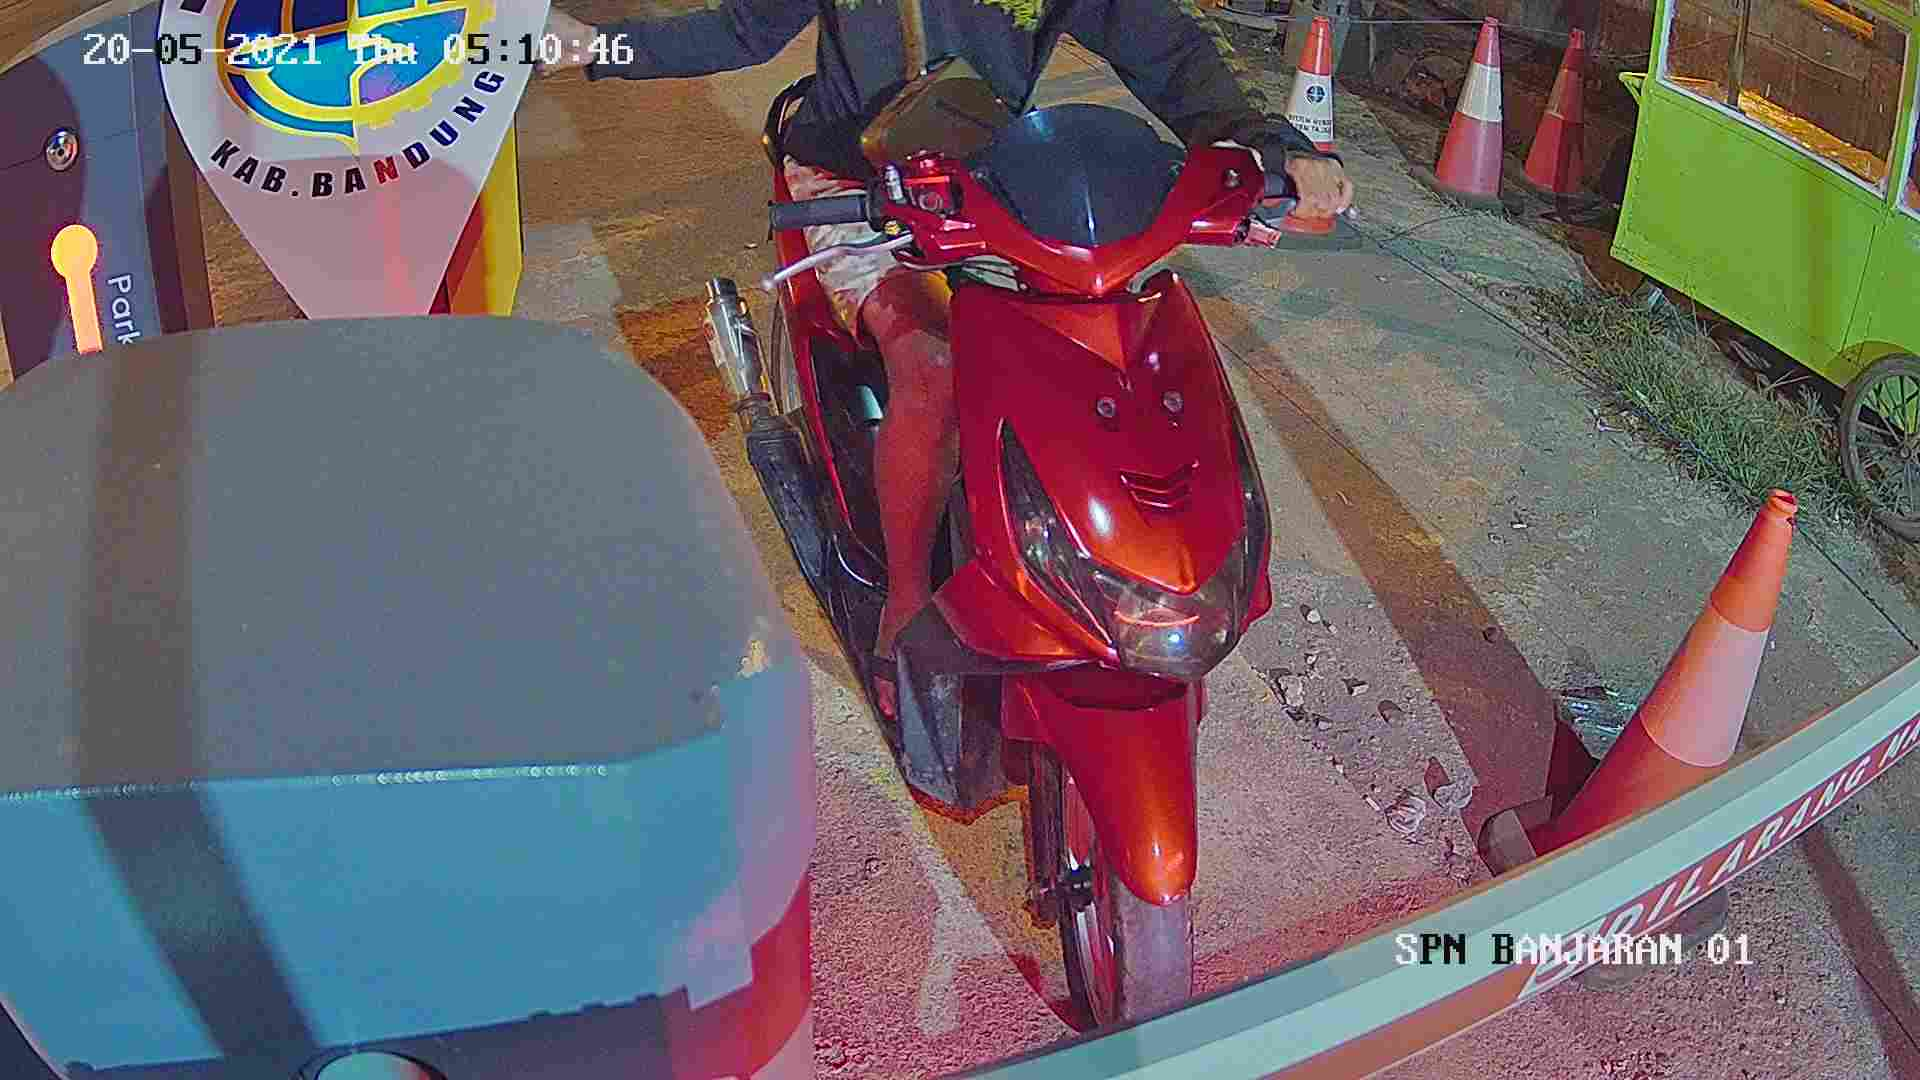motor: (723, 98, 1295, 1004)
